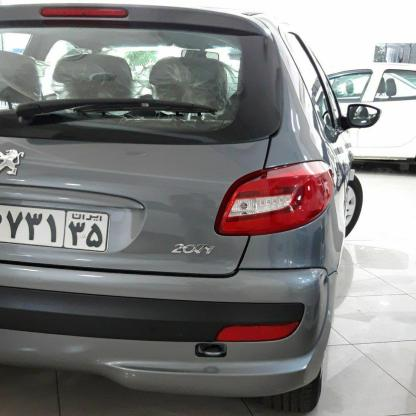Car: (0, 0, 346, 393), (305, 59, 416, 164)
